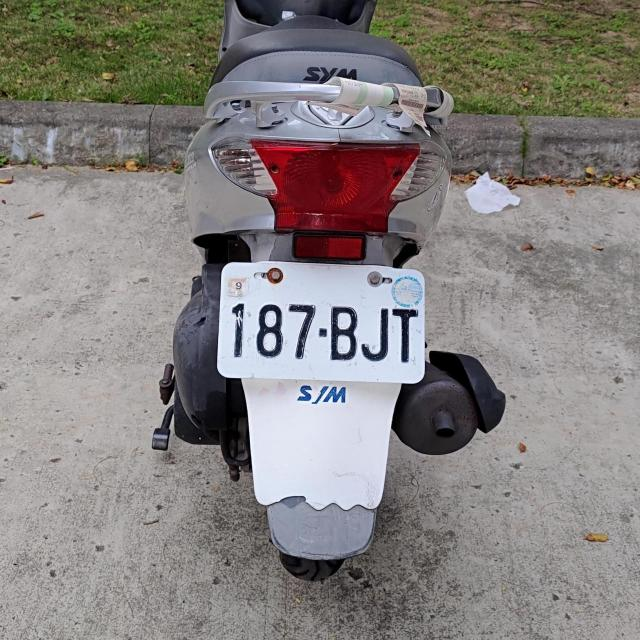W: (218, 261, 427, 384)
